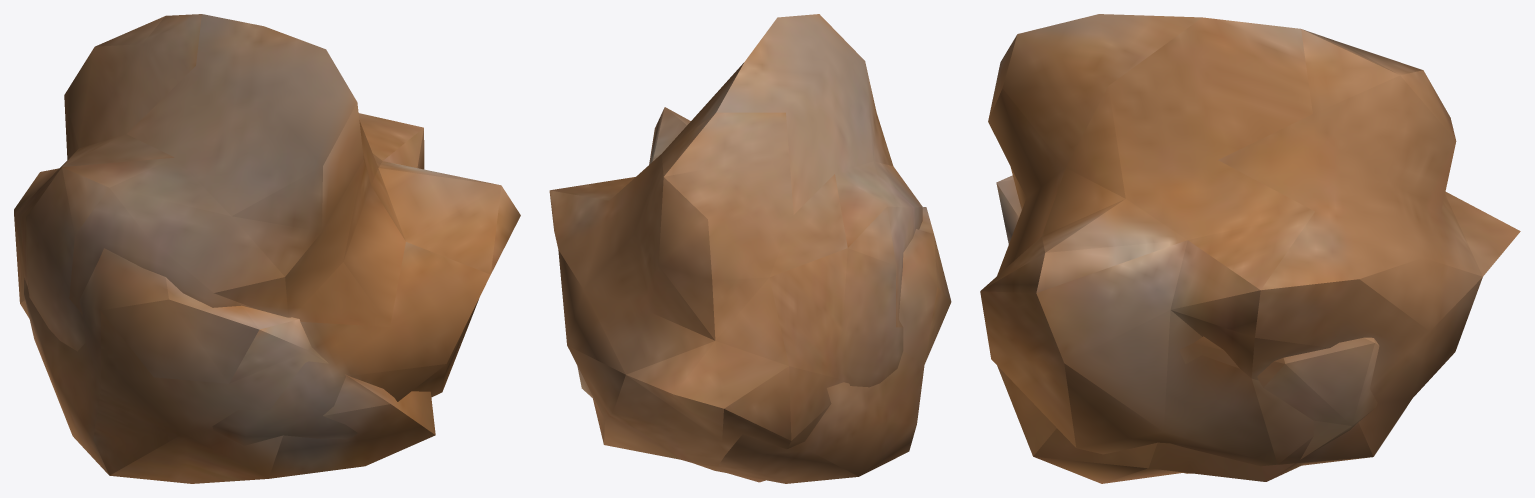
Rendered from terron_0.glb.
3 renders of one model, left to right at view 1: azimuth 30°, elevation 25°; view 2: azimuth 150°, elevation 25°; view 3: azimuth 270°, elevation 25°, orthographic. The views are drawn at different scales.
Visible parts, largest first — view 1: terron_0_malla; view 2: terron_0_malla; view 3: terron_0_malla.
Part boxes in pixels (box(x1,y1,x2,y2)): terron_0_malla: box(14, 14, 520, 483); terron_0_malla: box(549, 14, 951, 483); terron_0_malla: box(980, 14, 1520, 483).
Bounding box in the file's own units: 0.1266 × 0.1388 × 0.1498.
1 material, 1 textured.
